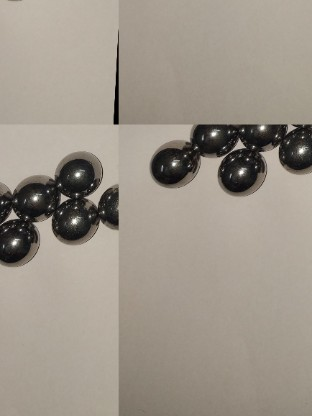ironball: (214, 147, 273, 201), (145, 136, 200, 188), (52, 146, 106, 197), (0, 215, 46, 268), (11, 176, 59, 223), (53, 195, 97, 245), (184, 121, 241, 157), (277, 124, 310, 175), (238, 119, 290, 151), (97, 180, 117, 228)
